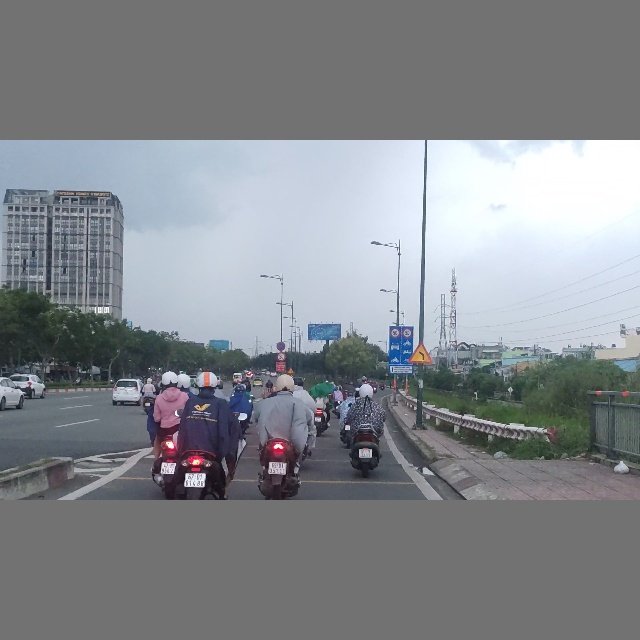P.111: (276, 352, 286, 362)
P.127*50: (390, 327, 400, 338), (402, 327, 412, 338)
P.130: (275, 341, 286, 351)
W.201a: (408, 340, 434, 364), (288, 367, 294, 374)
